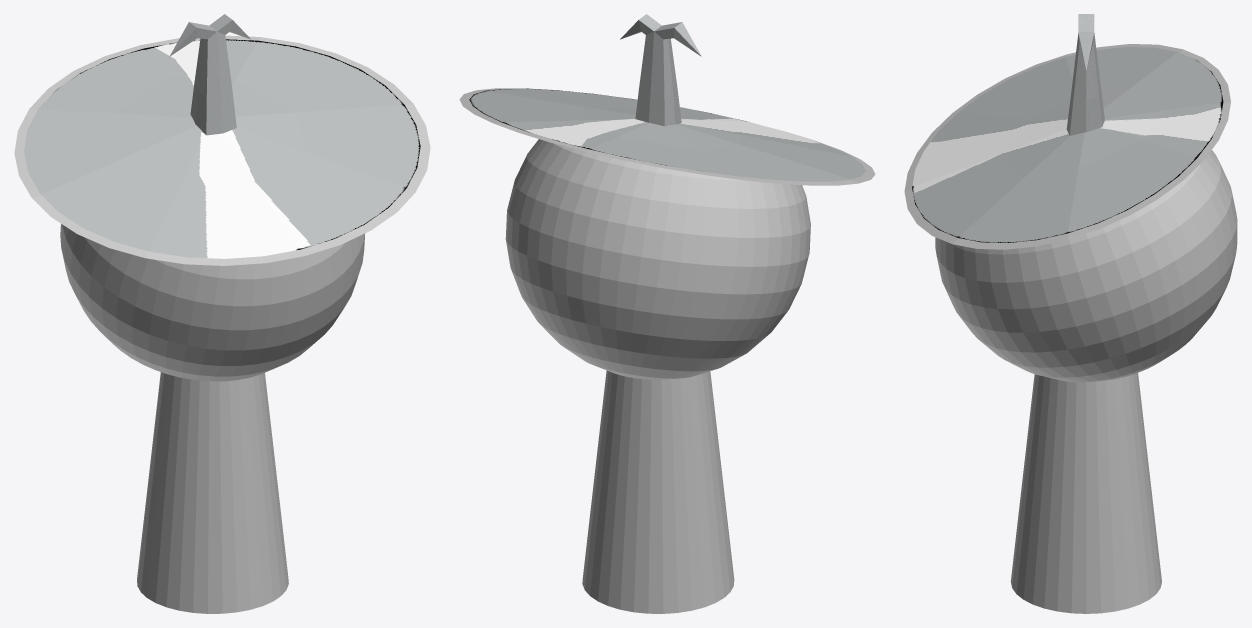
File: clukr.fbx
3 renders of one model, left to right at view 1: azimuth 30°, elevation 25°; view 2: azimuth 150°, elevation 25°; view 3: azimuth 270°, elevation 25°, orthographic.
Visible parts, largest first — view 1: Cylinder.001, Cube.001, Cylinder.003, Cube; view 2: Cube.001, Cylinder.001, Cube, Cylinder.003; view 3: Cube.001, Cylinder.001, Cylinder.003, Cube.
Part boxes in pixels (left/top/right/bottom): Cylinder.001: left=24, top=39, right=420, bottom=258; Cube.001: left=60, top=14, right=365, bottom=613; Cylinder.003: left=14, top=35, right=430, bottom=265; Cube: left=169, top=14, right=250, bottom=135; Cube.001: left=505, top=14, right=810, bottom=613; Cylinder.001: left=469, top=88, right=865, bottom=181; Cube: left=620, top=14, right=701, bottom=126; Cylinder.003: left=459, top=88, right=875, bottom=185; Cube.001: left=935, top=14, right=1237, bottom=613; Cylinder.001: left=912, top=47, right=1223, bottom=242; Cylinder.003: left=904, top=44, right=1230, bottom=249; Cube: left=1066, top=14, right=1104, bottom=135.
Size of the model in its own units: 292 by 410 by 221.
